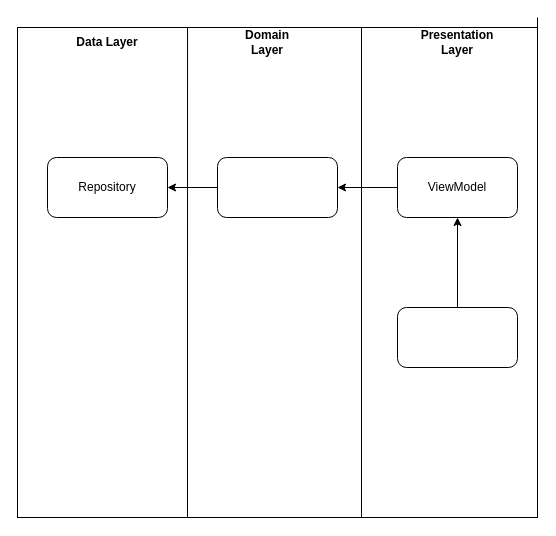
The diagram is 556 pixels wide and 536 high, and some of its shapes have lost their labels. The shapes that lost their labels are listed below. From the top down, each one's centre as x and y in pixels, then its label:
At [277,187]: "Usecase".
At [457,337]: "View".
